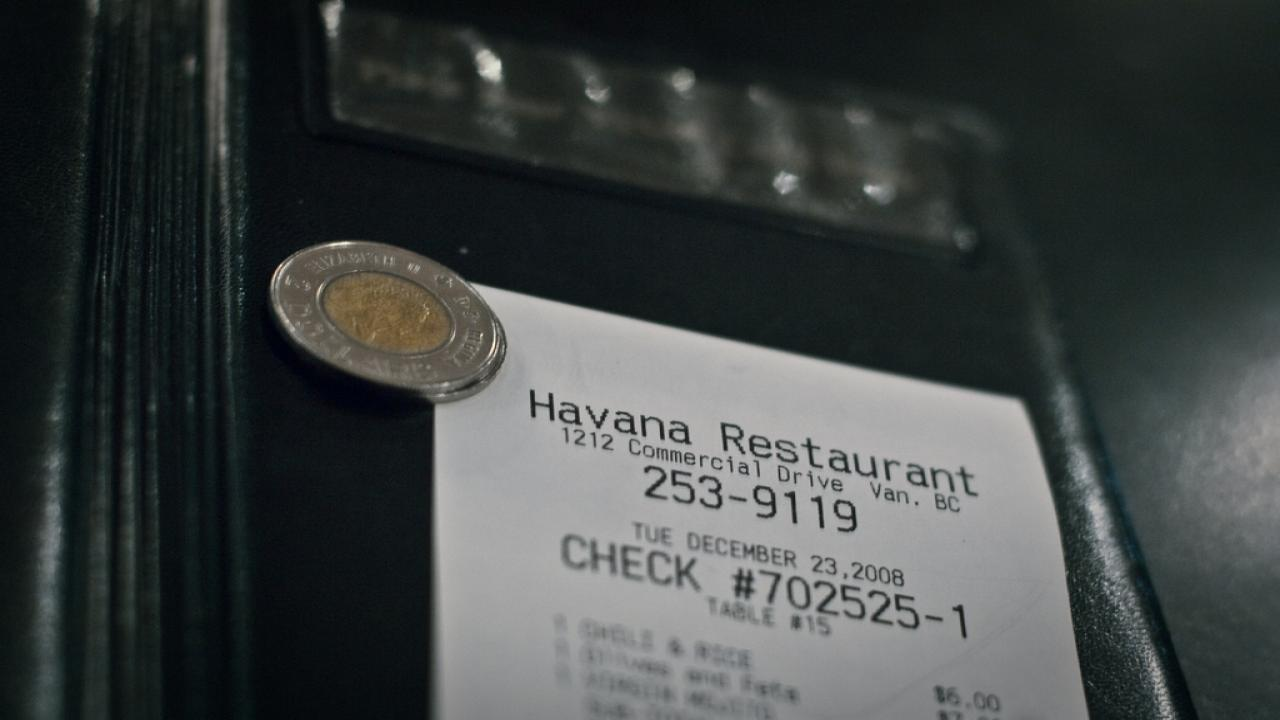coin: (260, 233, 509, 400)
